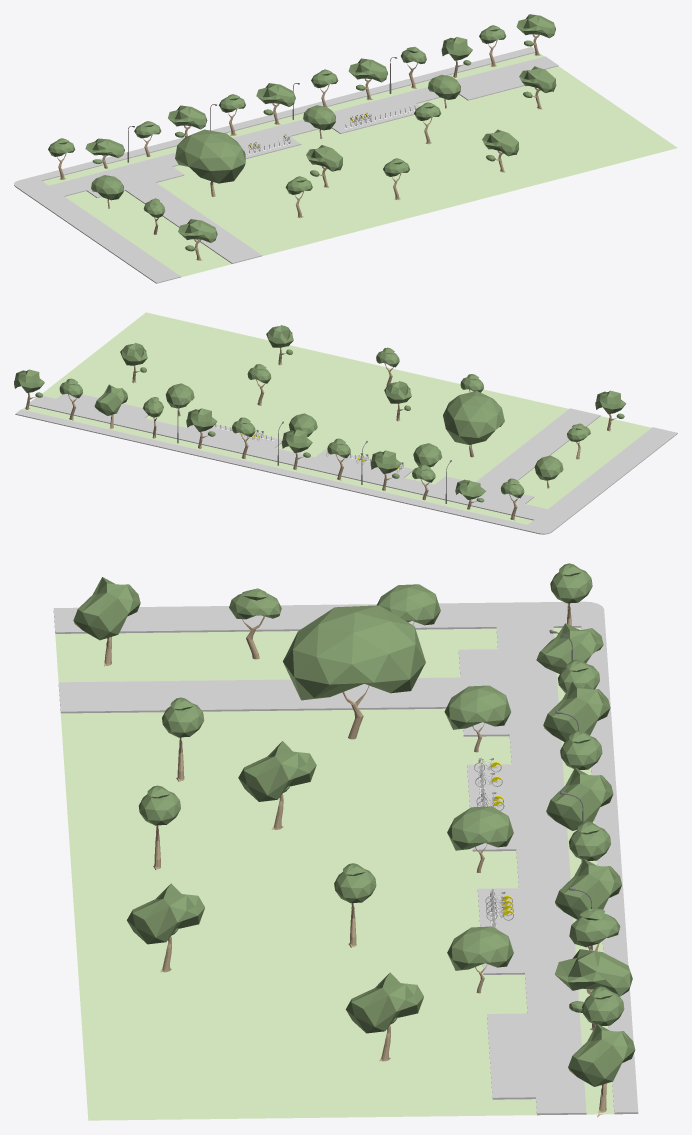
The model's file is Station_Zhoumei_optimized.gltf.
3 views of the same model, one above another, from view 1: azimuth 30°, elevation 25°; view 2: azimuth 150°, elevation 25°; view 3: azimuth 270°, elevation 25° (orthographic). The views are drawn at different scales.
Parts seen in each view (by area): view 1: Brep (×4), Mesh10 Icosphere_5_1 skp3703_1 Model (×10), Mesh2 Icosphere_1_1 skp665F1 Model (×4); view 2: Brep (×4), Mesh10 Icosphere_5_1 skp3703_1 Model (×10), Mesh2 Icosphere_1_1 skp665F1 Model (×5); view 3: Brep (×4), Mesh10 Icosphere_5_1 skp3703_1 Model (×10), Mesh2 Icosphere_1_1 skp665F1 Model (×5), Mesh13 skpC133_1 Model (×9).
Boxes of the visible parts, <box> form: Brep (×4): <box>14,47,677,283</box>; Mesh10 Icosphere_5_1 skp3703_1 Model (×10): <box>85,14,556,242</box>; Mesh2 Icosphere_1_1 skp665F1 Model (×4): <box>91,74,460,200</box>; Brep (×4): <box>15,312,677,534</box>; Mesh10 Icosphere_5_1 skp3703_1 Model (×10): <box>14,325,626,499</box>; Mesh2 Icosphere_1_1 skp665F1 Model (×5): <box>165,383,563,480</box>; Brep (×4): <box>53,601,638,1120</box>; Mesh10 Icosphere_5_1 skp3703_1 Model (×10): <box>73,577,635,1086</box>; Mesh2 Icosphere_1_1 skp665F1 Model (×5): <box>283,584,513,970</box>; Mesh13 skpC133_1 Model (×9): <box>138,569,624,1025</box>.
Bounding box in the file's own units: 64.54 × 7.89 × 30.62.
